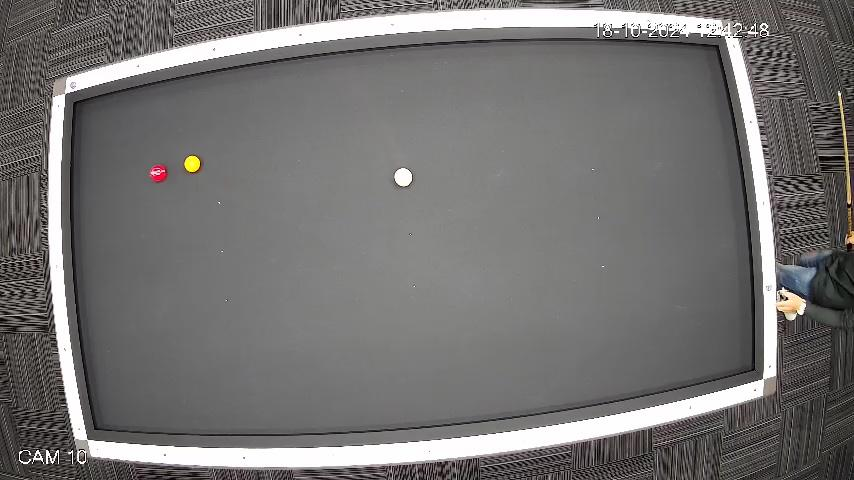Red: (149, 163, 170, 183)
White: (392, 166, 414, 189)
Yellow: (183, 154, 202, 174)
